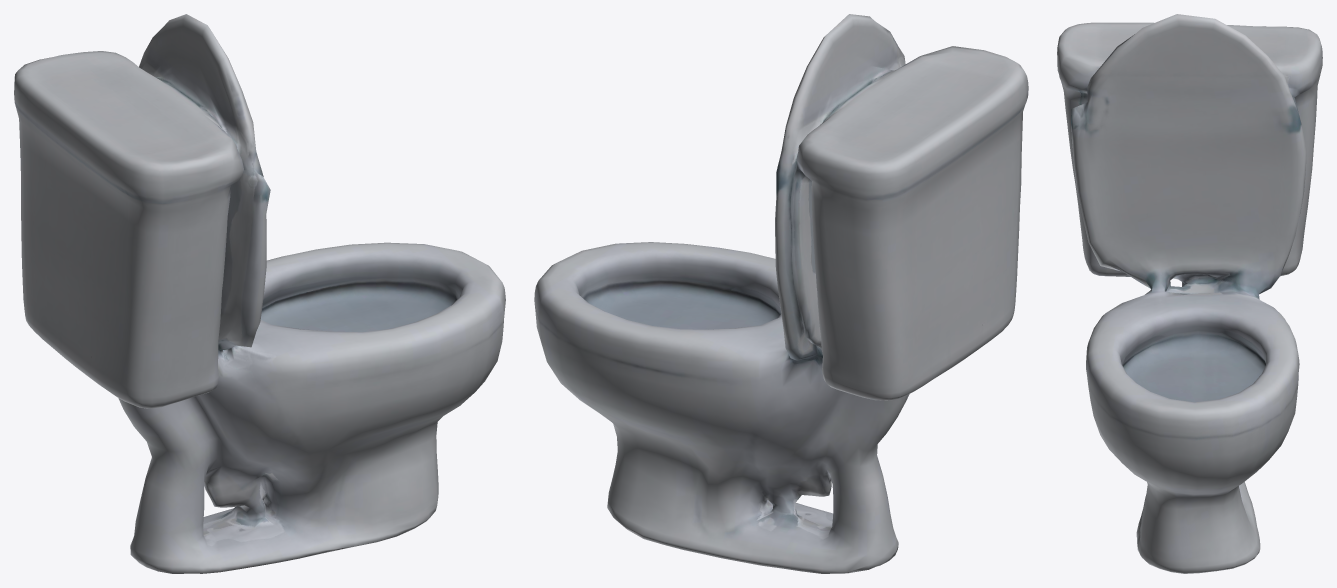
The model's file is 7dc8636d46e1_simple_toilet__3d_a.fbx.
The picture shows the model from 3 angles, left to right: view 1: azimuth 30°, elevation 25°; view 2: azimuth 150°, elevation 25°; view 3: azimuth 270°, elevation 25°; orthographic projection. The views are drawn at different scales.
Visible parts, largest first — view 1: mesh; view 2: mesh; view 3: mesh.
Boxes of the visible parts, <box> form: mesh: <box>14,14,505,573</box>; mesh: <box>534,14,1028,573</box>; mesh: <box>1057,14,1322,573</box>.
Size of the model in its own units: 81.7 by 99.47 by 50.69.
